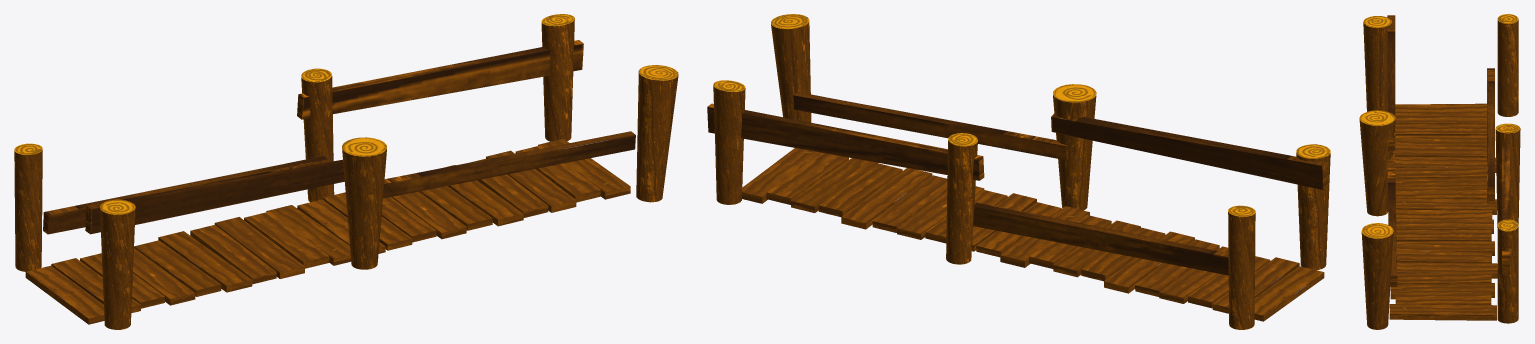
The model's file is bridge_block_L.fbx.
The picture shows the model from 3 angles, left to right: view 1: azimuth 30°, elevation 25°; view 2: azimuth 150°, elevation 25°; view 3: azimuth 270°, elevation 25°; orthographic projection. The views are drawn at different scales.
Visible parts, largest first — view 1: pCube10; view 2: pCube10; view 3: pCube10.
Boxes of the visible parts, x1,y1,x2,y2 form: pCube10: (14,14,678,329); pCube10: (707,14,1330,329); pCube10: (1359,14,1520,329).
Size of the model in its own units: 32.83 by 6.79 by 9.89.
